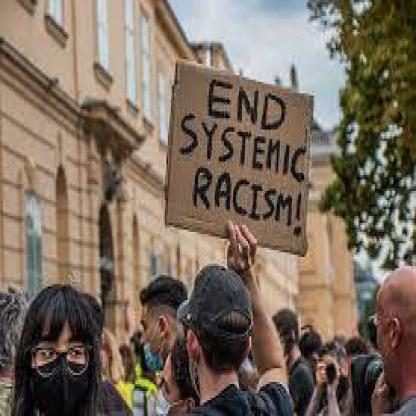BANNER: (165, 59, 315, 257)
